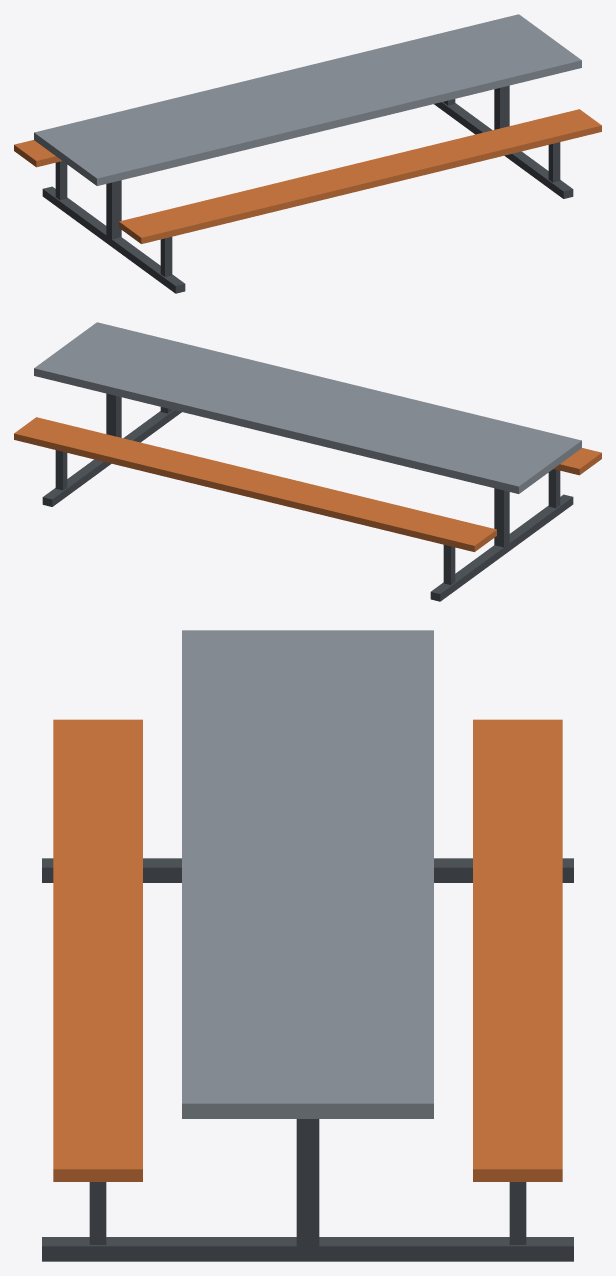
File: canteen_table.glb
3 views of the same model, one above another, from view 1: azimuth 30°, elevation 25°; view 2: azimuth 150°, elevation 25°; view 3: azimuth 270°, elevation 25° (orthographic). The views are drawn at different scales.
Visible parts, largest first — view 1: table_canteen_steel, table_canteen_seat, table_canteen_leg; view 2: table_canteen_steel, table_canteen_seat, table_canteen_leg; view 3: table_canteen_steel, table_canteen_seat, table_canteen_leg.
Part boxes in pixels (x1,y1,x2,y2): table_canteen_steel: [34, 14, 581, 185]; table_canteen_seat: [14, 109, 601, 243]; table_canteen_leg: [42, 85, 573, 293]; table_canteen_steel: [34, 322, 581, 493]; table_canteen_seat: [14, 417, 601, 551]; table_canteen_leg: [42, 393, 573, 601]; table_canteen_steel: [182, 630, 433, 1118]; table_canteen_seat: [53, 719, 562, 1181]; table_canteen_leg: [42, 858, 573, 1261].
Bounding box in the file's own units: 4 × 0.79 × 1.9.
